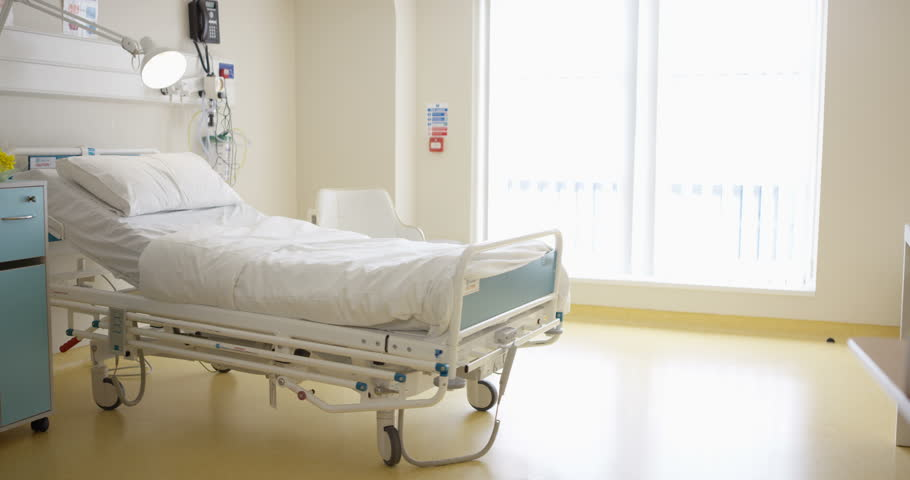hospital bed: (30, 141, 599, 386)
